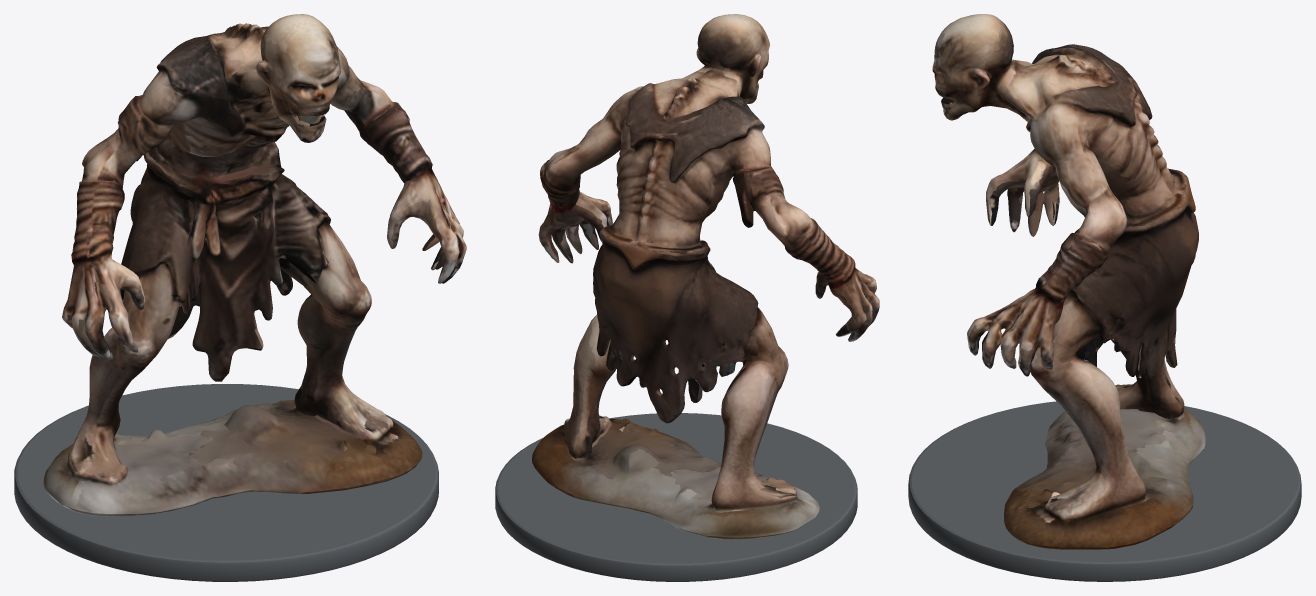
Rendered from ghoul.glb.
3 renders of one model, left to right at view 1: azimuth 30°, elevation 25°; view 2: azimuth 150°, elevation 25°; view 3: azimuth 270°, elevation 25°, orthographic. The views are drawn at different scales.
Visible parts, largest first — view 1: ghoul_body, ghoul_round_base; view 2: ghoul_body, ghoul_round_base; view 3: ghoul_body, ghoul_round_base.
Part boxes in pixels (bbox=[...]): ghoul_body: bbox=[43, 14, 466, 516]; ghoul_round_base: bbox=[14, 384, 438, 581]; ghoul_body: bbox=[532, 14, 879, 539]; ghoul_round_base: bbox=[495, 413, 857, 581]; ghoul_body: bbox=[932, 14, 1205, 549]; ghoul_round_base: bbox=[908, 401, 1301, 581].
Bounding box in the file's own units: 1.04 × 1.36 × 1.
Materials: 2 (1 with a texture image).
